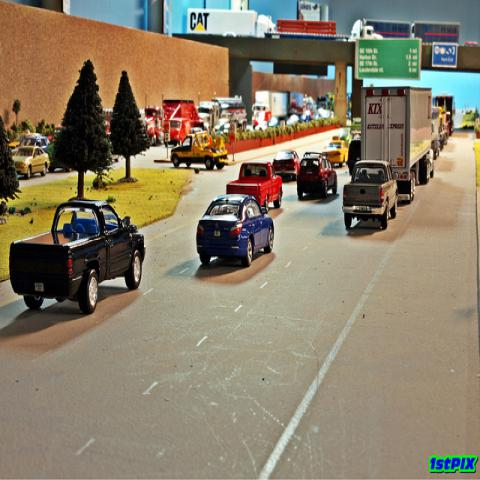car: (10, 197, 146, 314), (199, 193, 275, 269), (343, 160, 398, 232), (227, 164, 283, 212), (296, 153, 338, 200), (12, 145, 49, 180), (272, 150, 301, 180), (11, 135, 51, 156), (321, 139, 349, 168), (215, 117, 229, 131)
truck: (8, 198, 144, 314), (360, 88, 440, 205), (342, 158, 399, 231), (141, 92, 203, 146), (226, 160, 286, 214), (188, 10, 280, 38), (171, 130, 229, 169), (197, 91, 247, 132), (252, 92, 287, 128), (431, 91, 455, 137)
